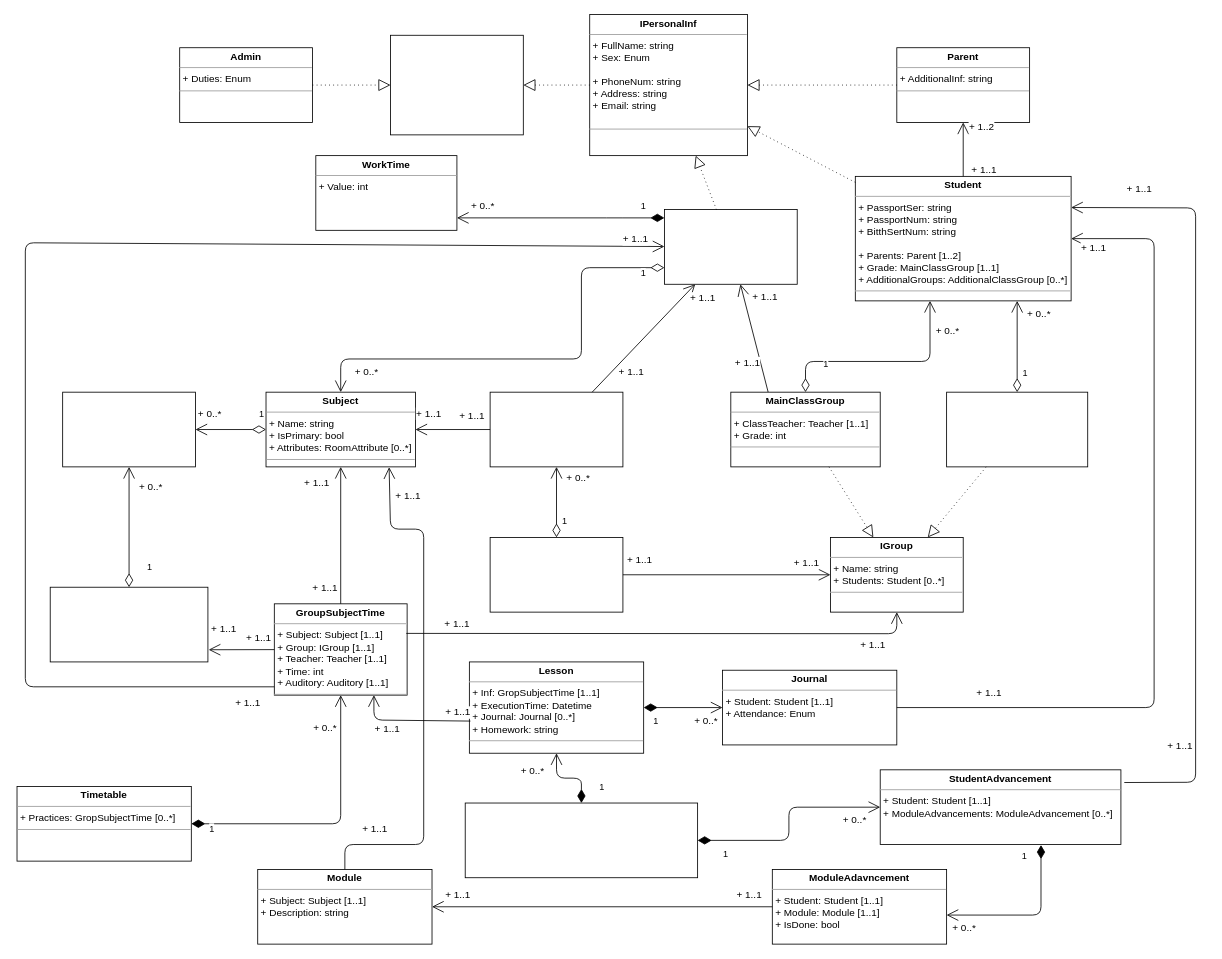
Some shapes in this 1222 by 959 pixel diagram are drawn without their labels. Here are the shapes that lost their labels. From the top down, the box of each, then its label:
(390, 34, 523, 135): IUser + Login: string + Pass: string +Role: Enum
(664, 209, 797, 284): Teacher + Specs: Subject [0..*] + WorkTime: WorkTime [0..*]
(62, 391, 195, 467): RoomAttribute + Name: string
(489, 391, 623, 467): SubjectCount + Subject: Subject [1..1] + Count: int + Teacher: Teacher[1..1]
(946, 391, 1088, 467): AdditionalClassGroup
(489, 537, 623, 612): Сurriculum + Group: IGroup [0..*] + SubjectCount: [0..*]
(49, 586, 208, 662): Auditory + Number: string + Attributes: RoomAttribute [0..*]
(464, 802, 698, 878): Diary + Lessons: Lesson [0..*] + StudentAdvacements: StudentAdvancement [0..*]
